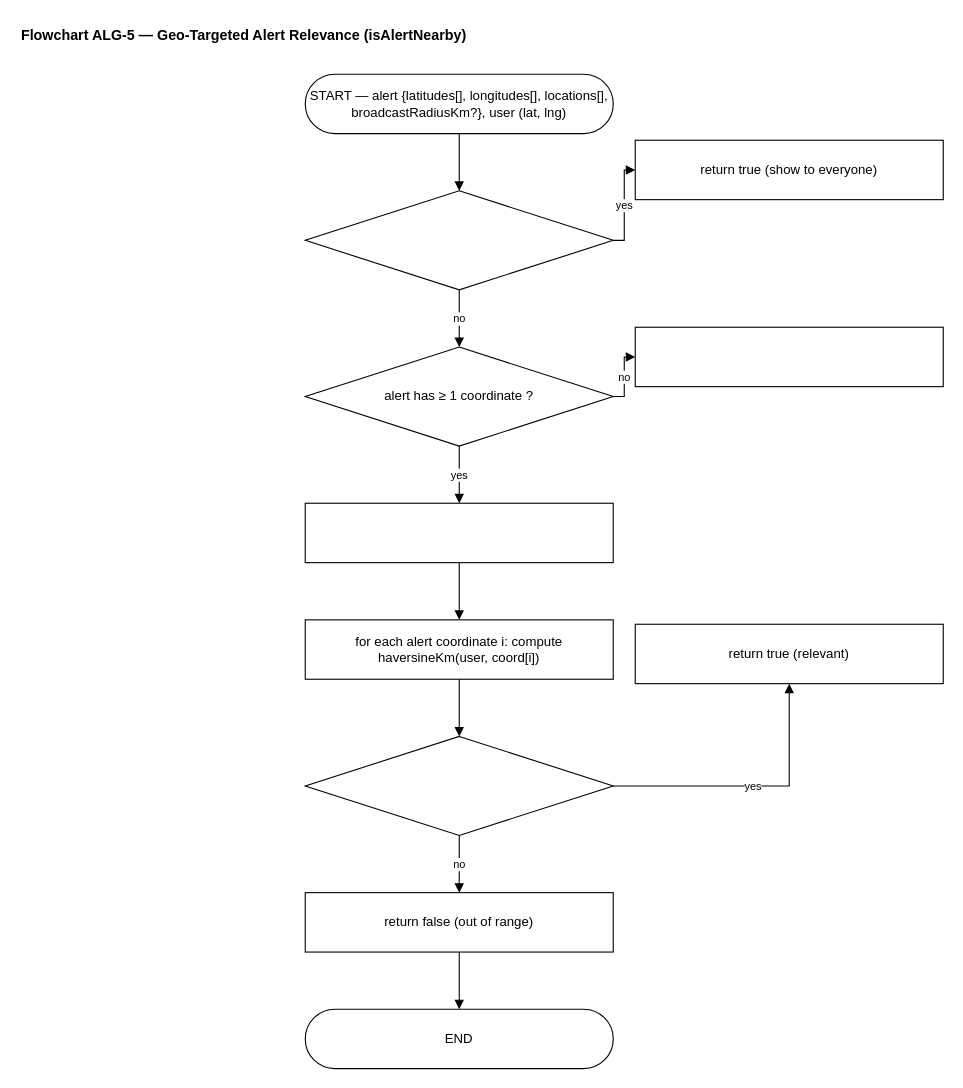
This 963x1088 diagram has some shape labels left out. The centre of each missing label's shape, as x and y in pixels:
alert.locations includes "All Island" ?: pixel 458 240
any haversineKm ≤ radius ?: pixel 458 785
radius = broadcastRadiusKm ?? 10 km: pixel 458 532
return false (untargeted — do not spam): pixel 788 356
